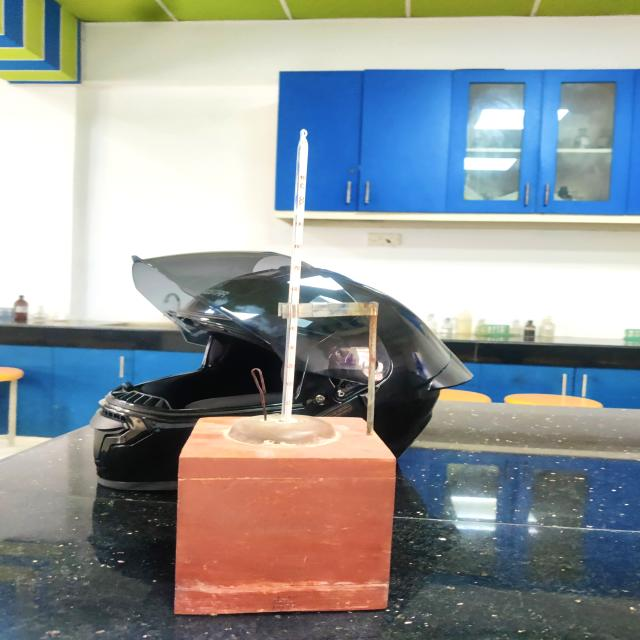Calorimeter: (145, 114, 420, 638)
